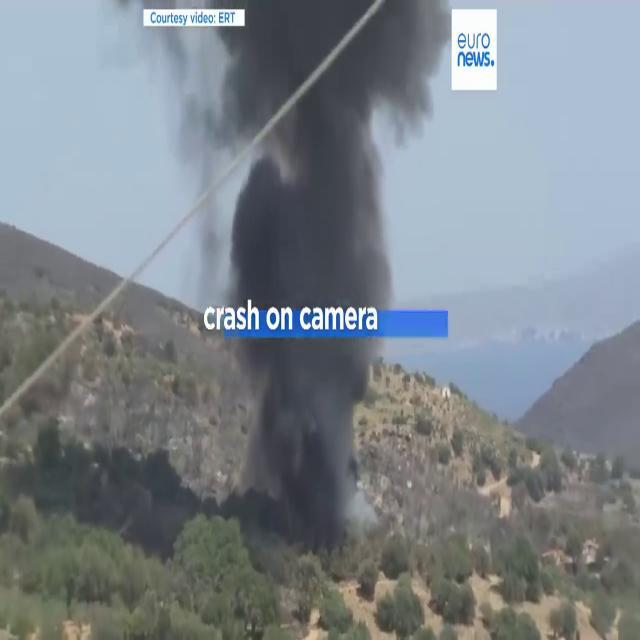Smoke: (195, 1, 442, 383), (194, 2, 438, 302), (226, 334, 390, 581)
